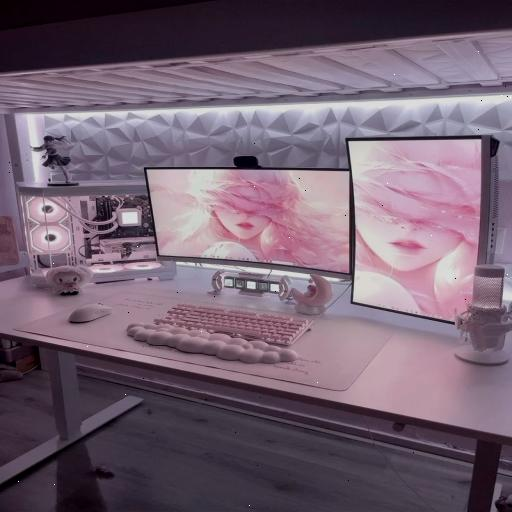computer case: (16, 182, 162, 279)
monitor: (347, 135, 499, 322), (145, 167, 352, 278)
